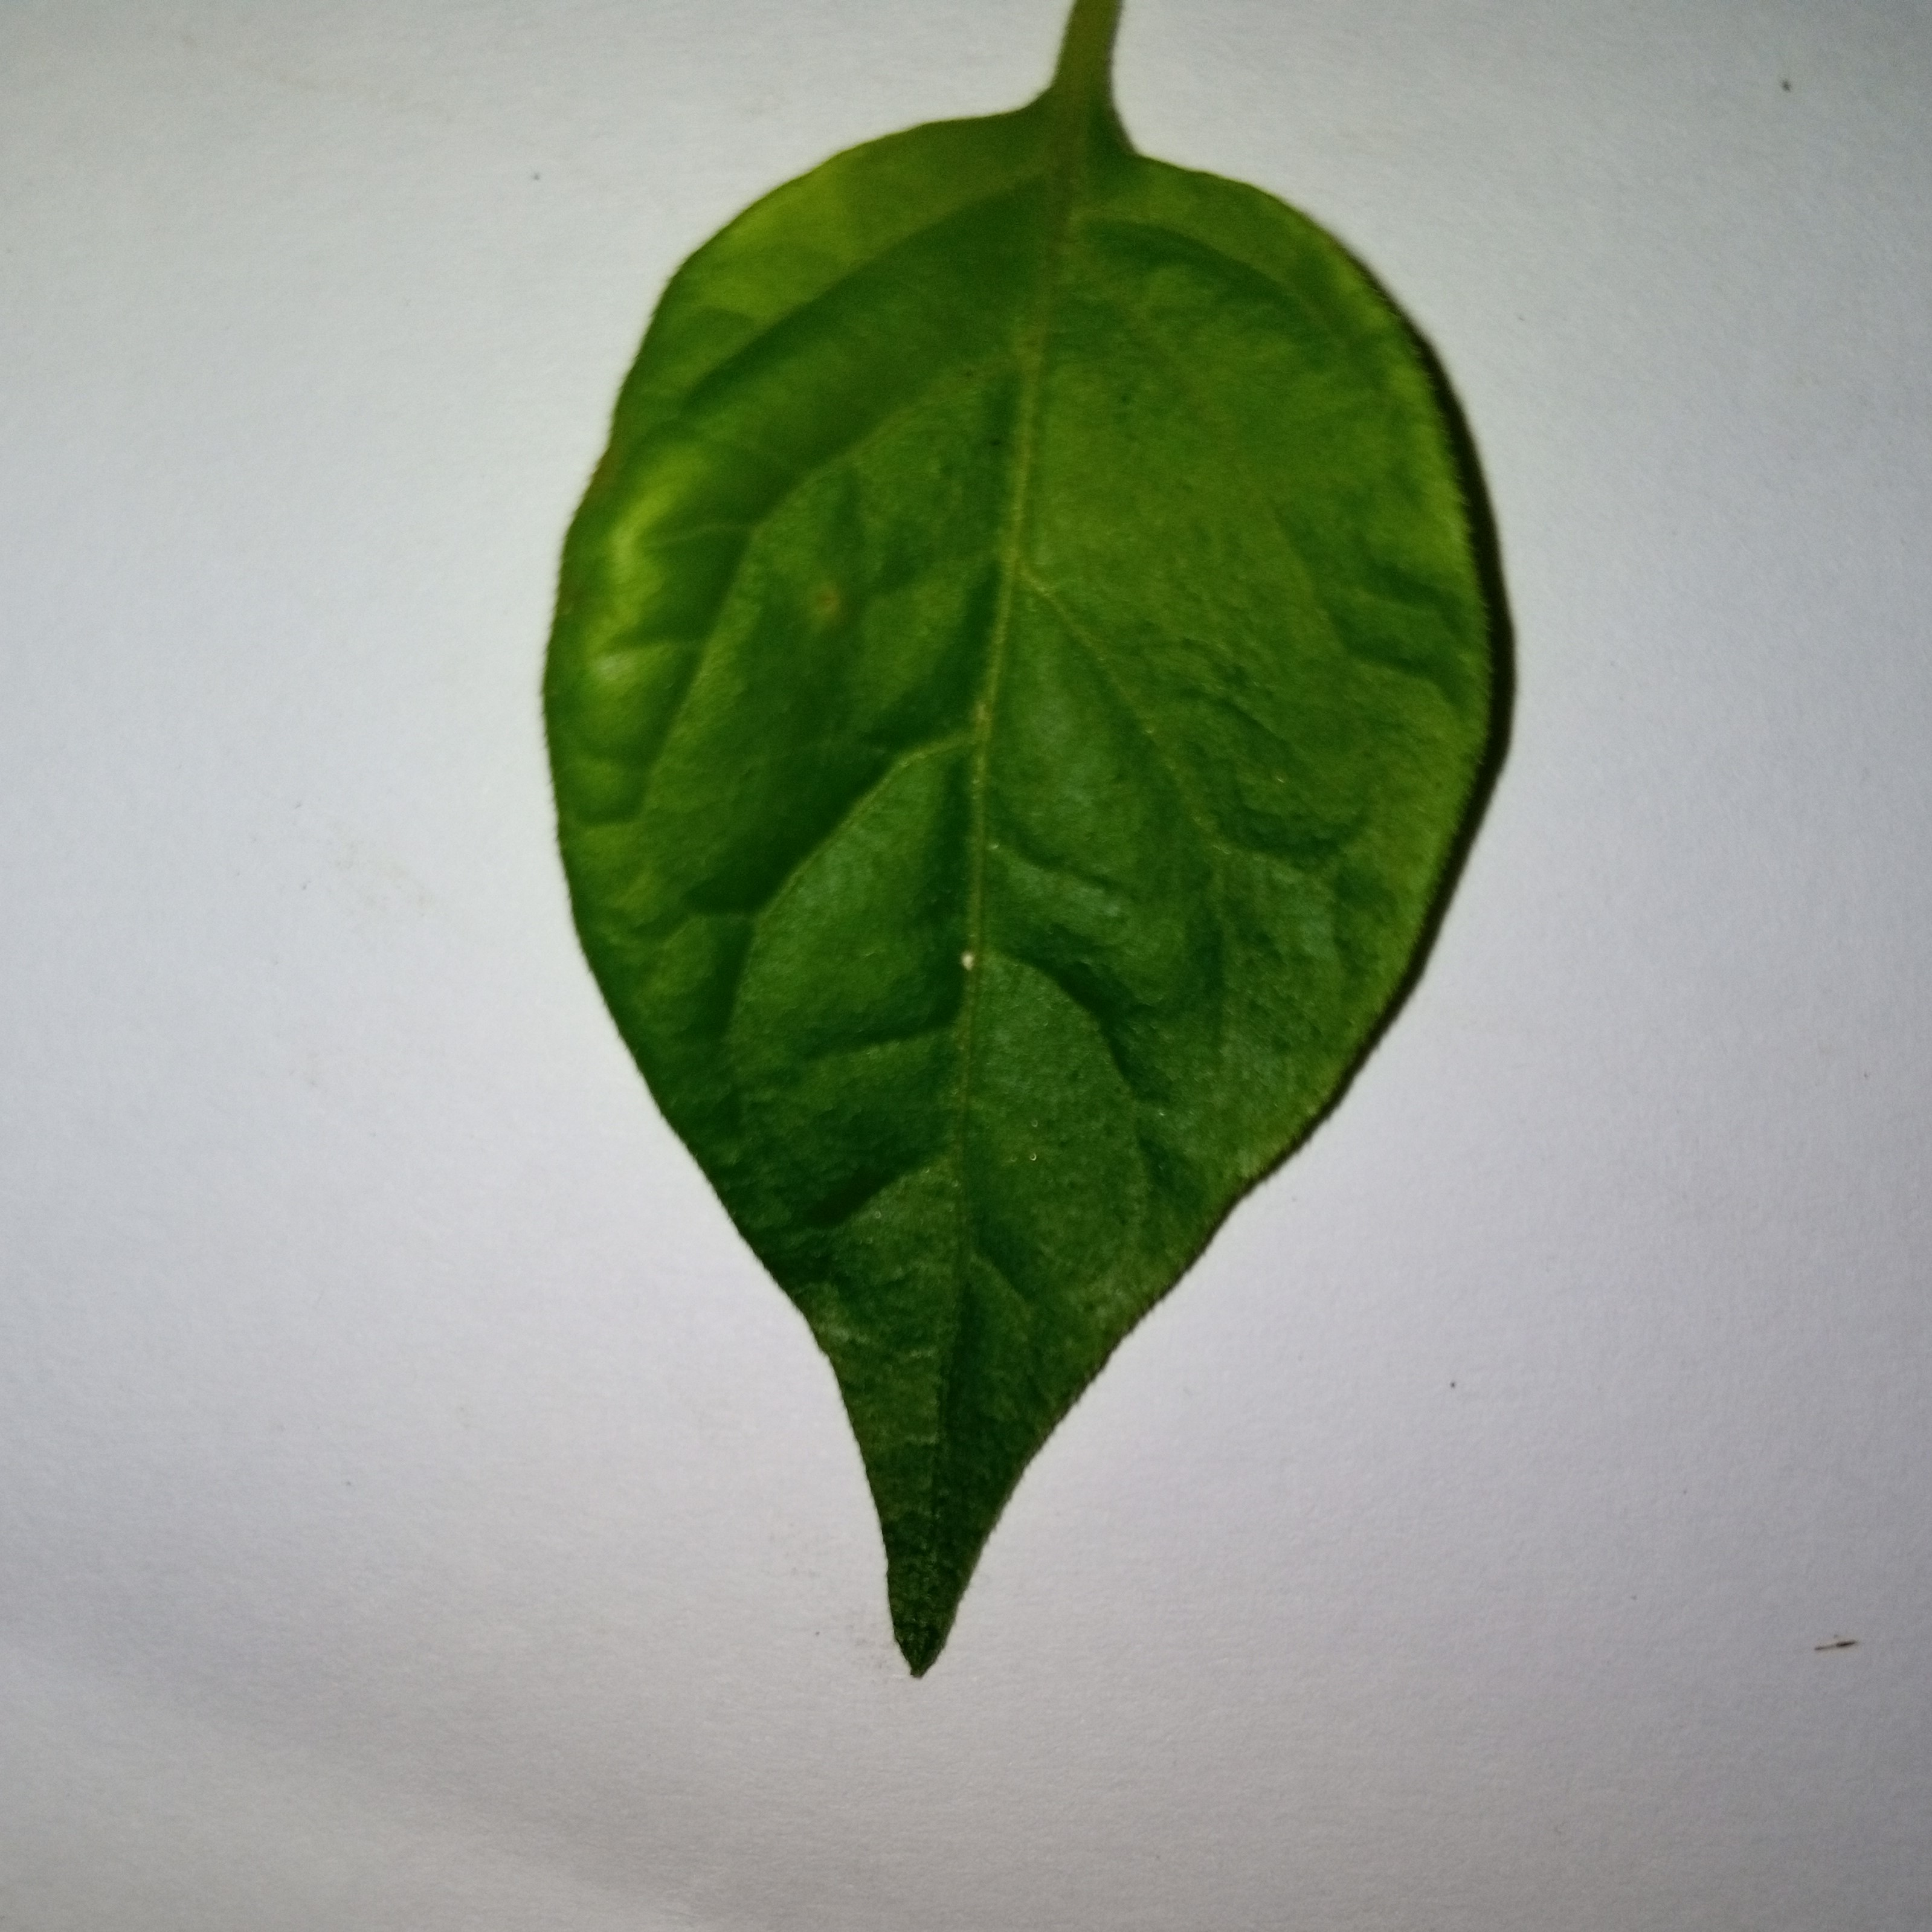Leaf: (331, 51, 1683, 1799)
